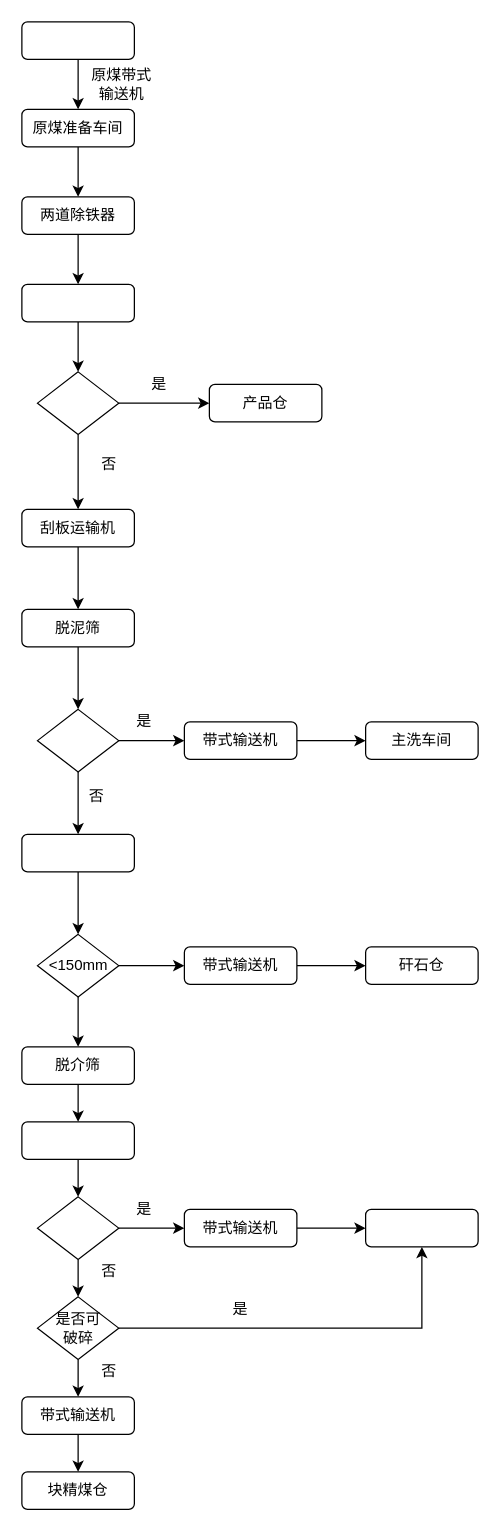
The diagram is 500 pixels wide and 1531 high, and some of its shapes have lost their labels. The shapes that lost their labels are listed below. From the top down, each one's centre as x and y in pixels, then its label:
At point (77, 40): "原煤仓".
At point (77, 302): "分级筛".
At point (77, 402): "<13mm".
At point (77, 740): "<3mm".
At point (77, 852): "浅槽分选机".
At point (77, 1140): "离心机脱水".
At point (77, 1227): "<50mm".
At point (421, 1227): "精煤仓".
